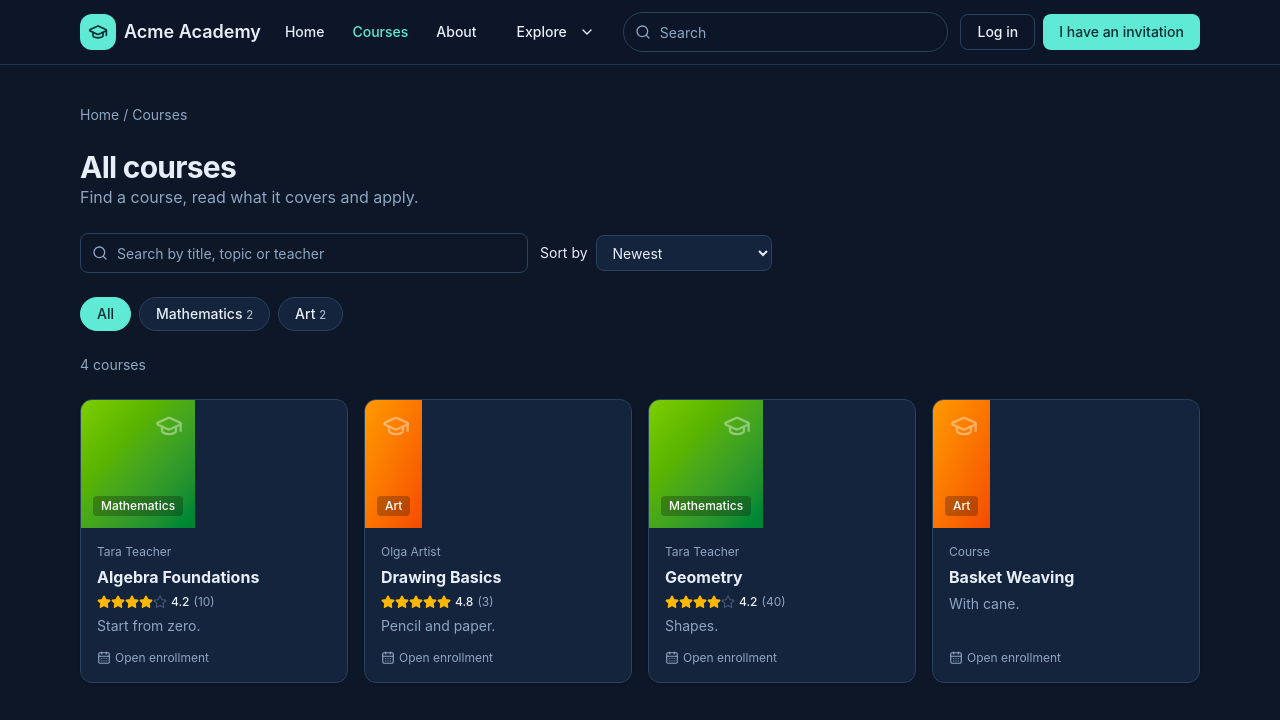
Test case: the website › shows every course in the catalog and filters by category and search, in the address too
Expected: the navigation bar named "Main" is shown, [285,23,477,40]
Expected: the heading "All courses" is shown, [80,149,236,185]
Click the button "Art 2": (311, 314) [278,297,343,331]
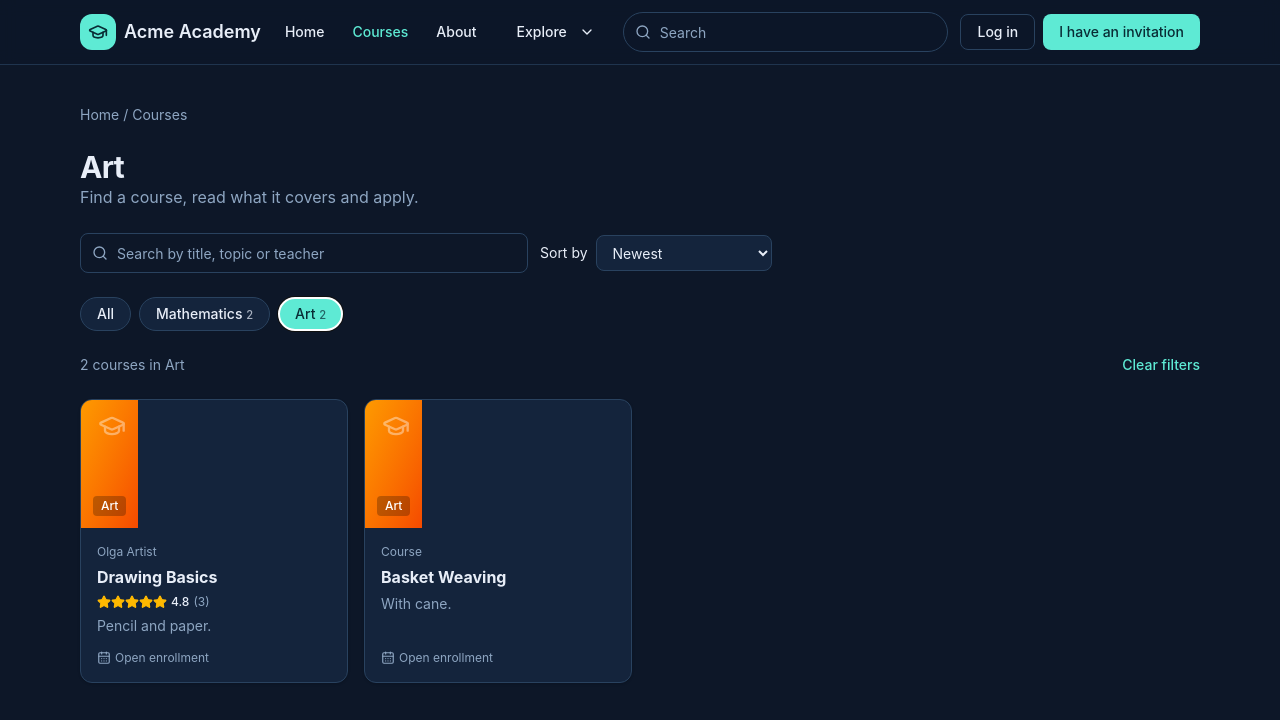
Expected: the heading "Art" is shown, [80,149,124,185]
Expected: the message reads "2 courses in Art", [80,355,185,375]
In the search field named "Search the catalog": (304, 253) [80,233,528,273], type "cane"
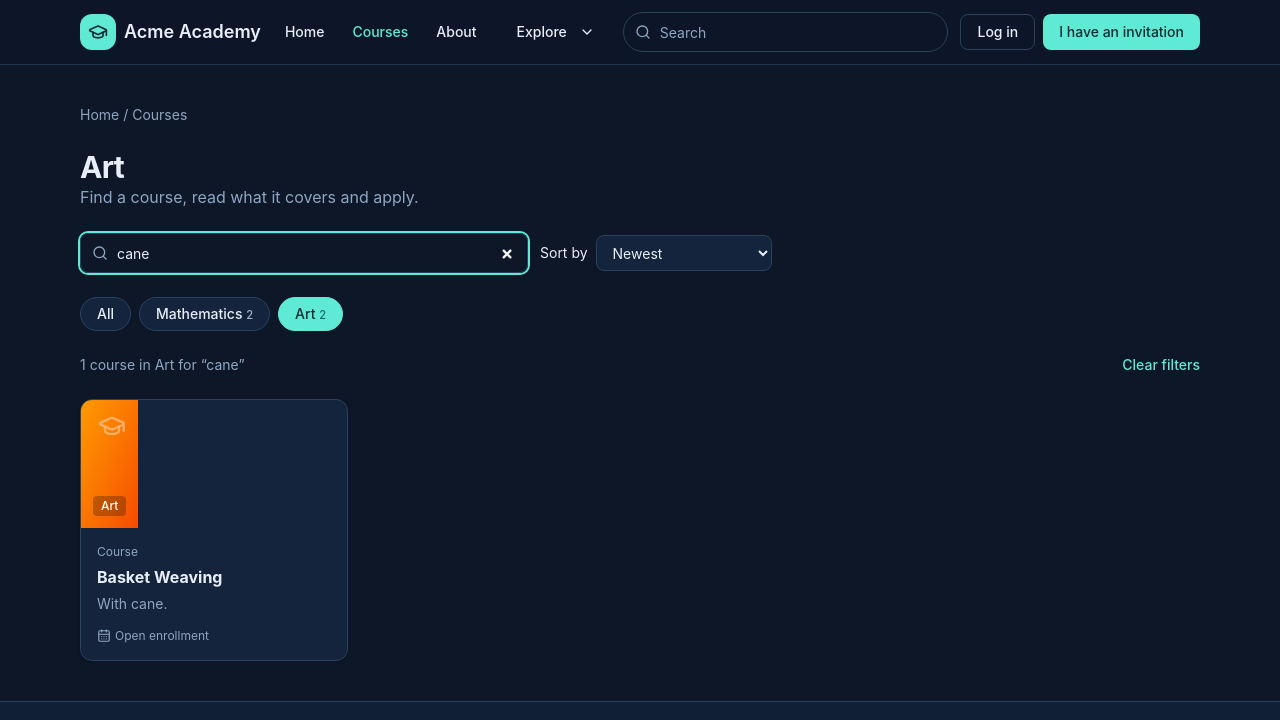
Expected: the message reads "1 course in Art for “cane”", [80,355,245,375]
Click the button "Clear filters": (1161, 365) [1122,355,1200,375]
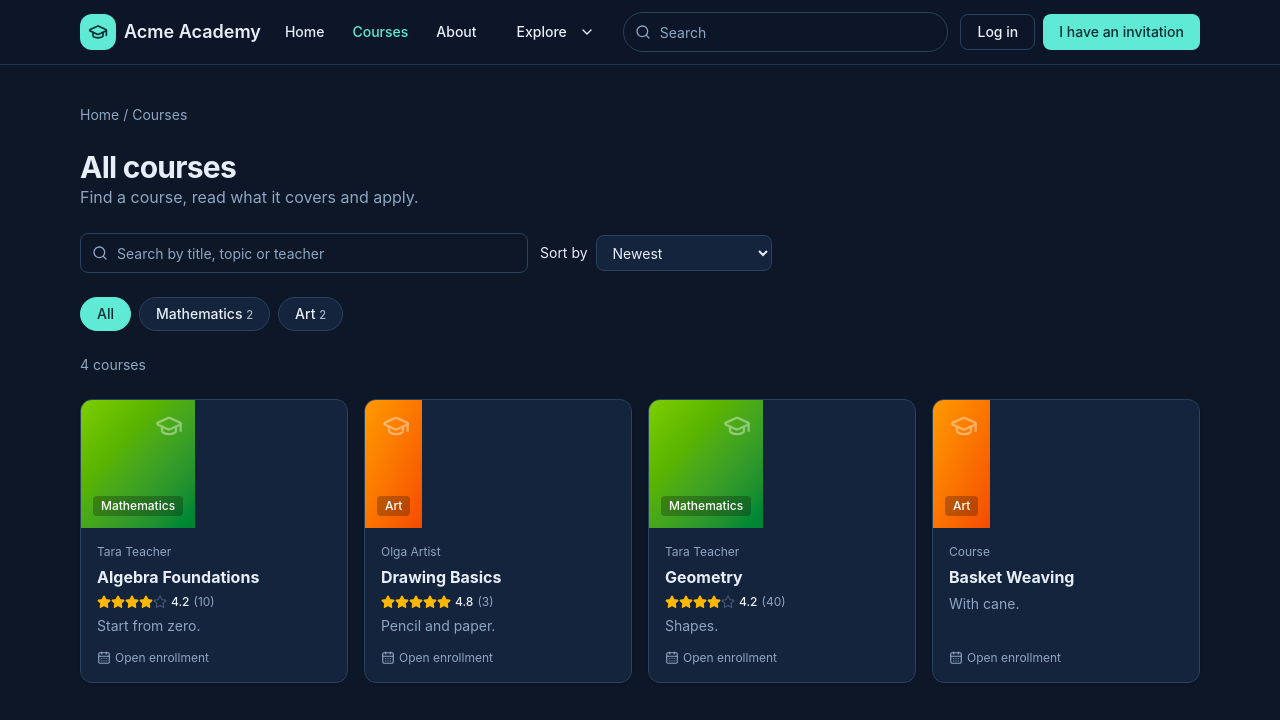
Expected: the heading "All courses" is shown, [80,149,236,185]
Expected: the message reads "4 courses", [80,355,146,375]
